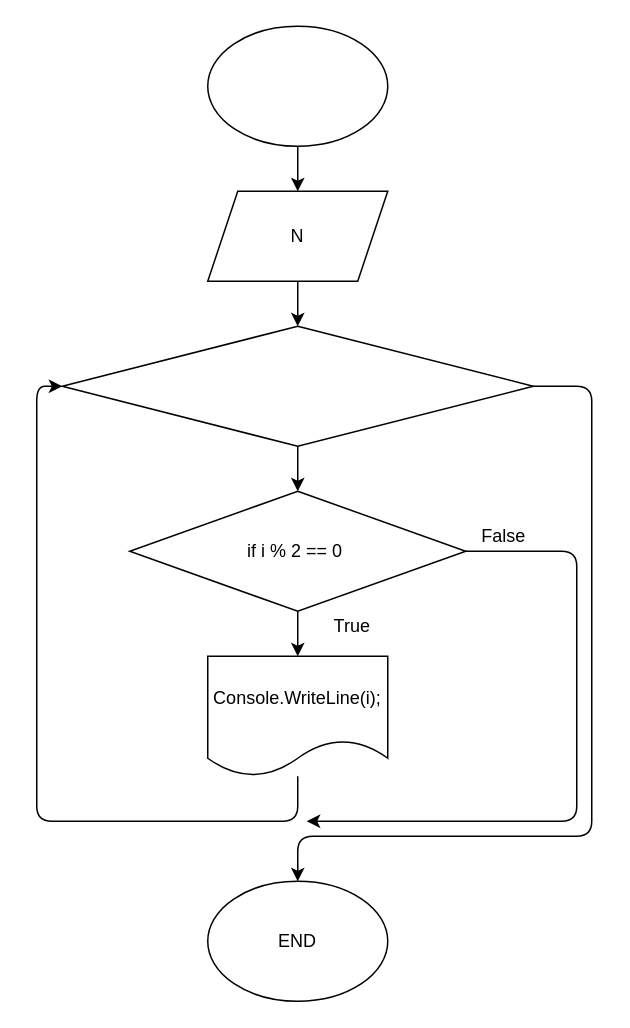
Some shapes in this 630 by 1028 pixel diagram are drawn without their labels. The centre of each missing label's shape, as x and y in pixels:
"for i = -N; i <= N; i++" goes at pixel 297 385.
"START" goes at pixel 297 85.
